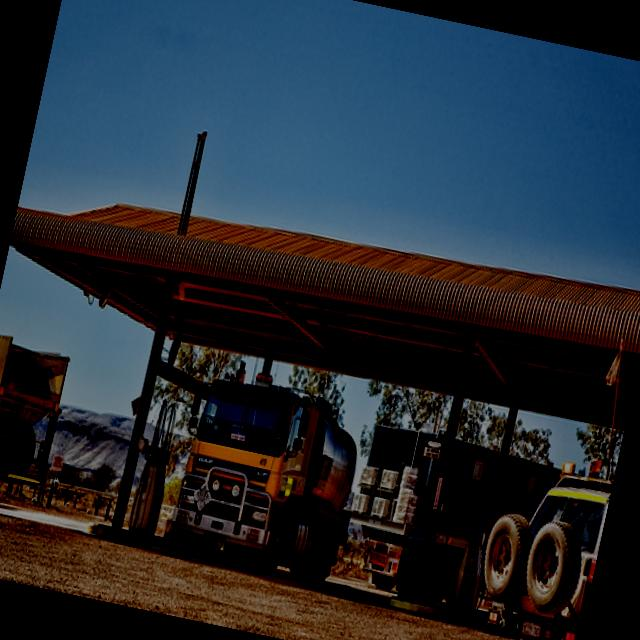Vehicle: (335, 421, 563, 624), (167, 368, 377, 583), (458, 438, 617, 640), (464, 457, 613, 640)
